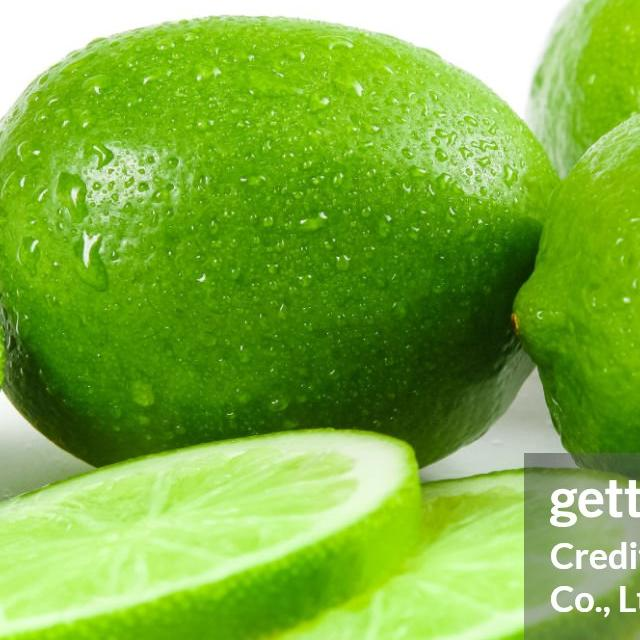lime: (0, 16, 556, 472)
